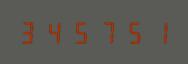five: (68, 20, 92, 44), (118, 20, 142, 44)
four: (42, 20, 66, 44)
one: (143, 20, 167, 44)
seven: (93, 20, 117, 44)
three: (17, 20, 41, 44)
